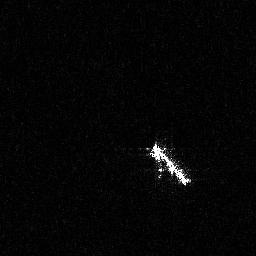ship: (138, 136, 194, 188)
